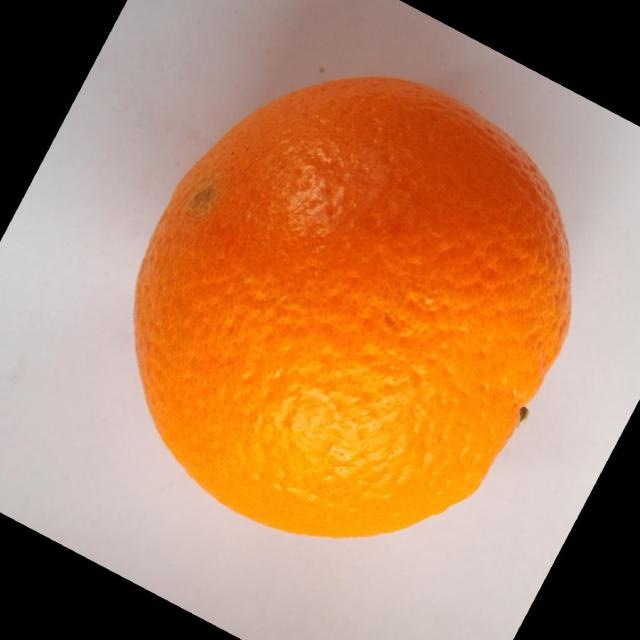agrume: (132, 74, 572, 539)
